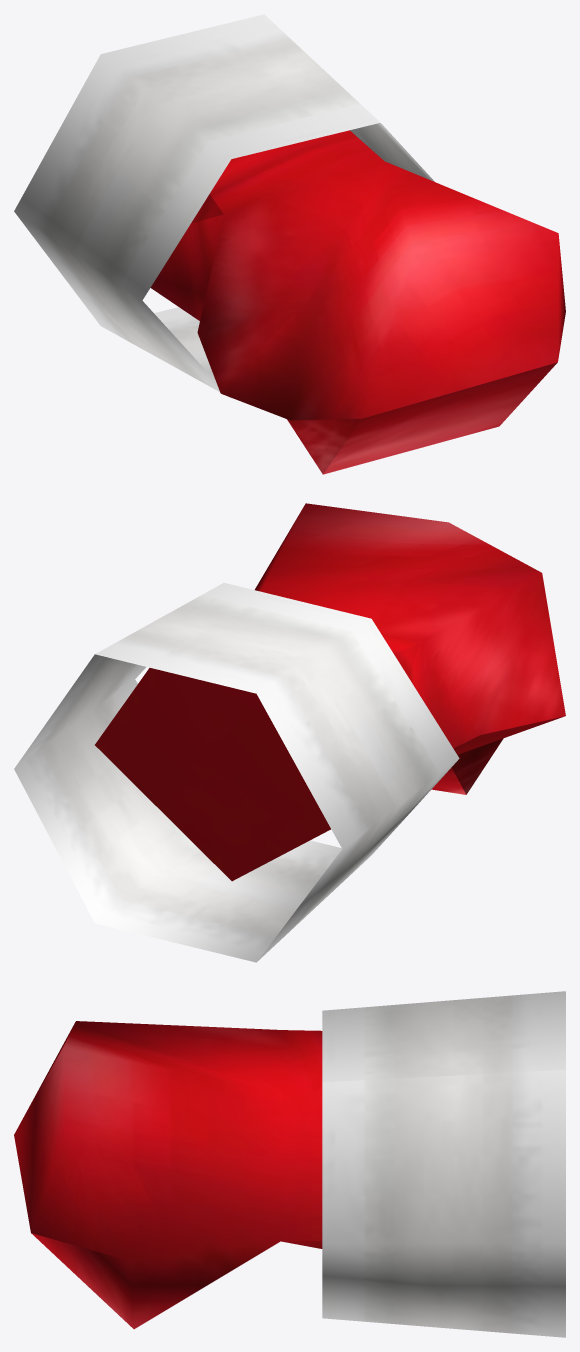
The model's file is Item13L.FBX.
3 views of the same model, one above another, from view 1: azimuth 30°, elevation 25°; view 2: azimuth 150°, elevation 25°; view 3: azimuth 270°, elevation 25° (orthographic).
Parts seen in each view (by area): view 1: item13L; view 2: item13L; view 3: item13L.
Boxes of the visible parts, x1=… form: item13L: x1=14, y1=14, x2=565, y2=474; item13L: x1=14, y1=503, x2=565, y2=962; item13L: x1=14, y1=991, x2=565, y2=1337.
Bounding box in the file's own units: 3.29 × 2.5 × 4.66.
Materials: 2 (2 with a texture image).
